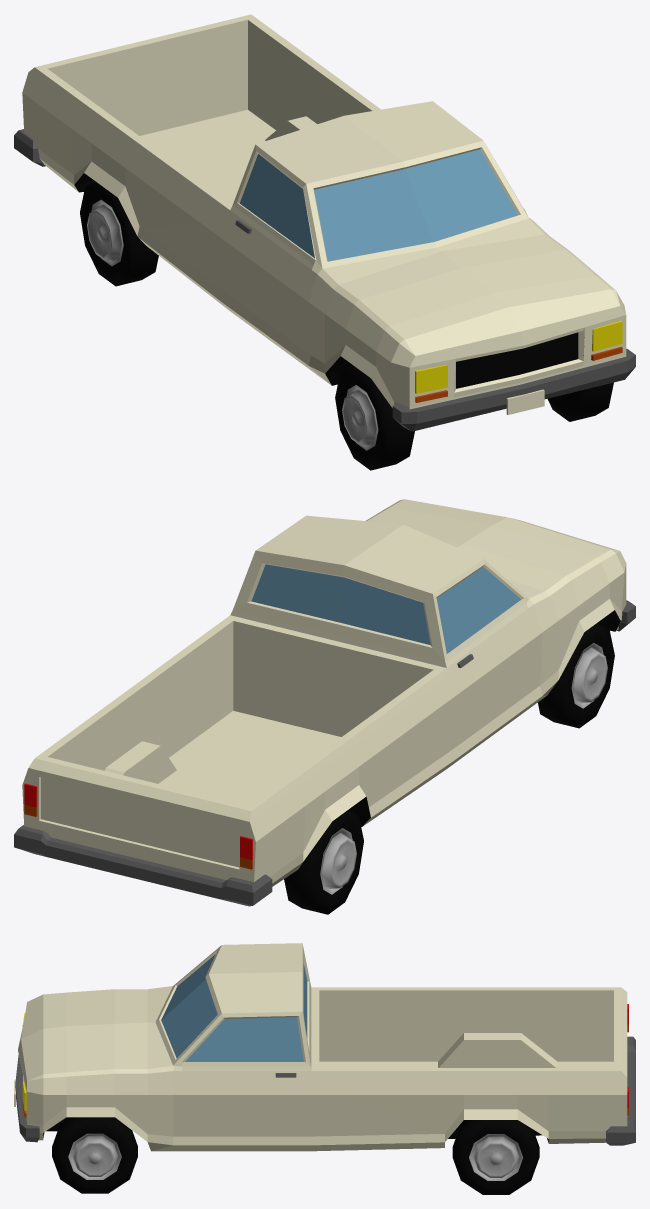
File: pickup.fbx
The picture shows the model from 3 angles, top to bottom: view 1: azimuth 30°, elevation 25°; view 2: azimuth 150°, elevation 25°; view 3: azimuth 270°, elevation 25°; orthographic projection. The views are drawn at different scales.
Parts seen in each view (by area): view 1: Cube, Wheel1rr, Wheel1fr, Wheel1rl; view 2: Cube, Wheel1fr, Wheel1rr; view 3: Cube, Wheel1fl, Wheel1rl.
Part boxes in pixels (x1,y1,x2,y2): Cube: [14, 14, 635, 431]; Wheel1rr: [335, 365, 414, 470]; Wheel1fr: [80, 181, 158, 286]; Wheel1rl: [547, 382, 613, 421]; Cube: [14, 499, 635, 906]; Wheel1fr: [284, 809, 363, 914]; Wheel1rr: [537, 623, 614, 728]; Cube: [14, 943, 635, 1151]; Wheel1fl: [452, 1120, 539, 1194]; Wheel1rl: [52, 1117, 137, 1193].
Bounding box in the file's own units: 151 × 131 × 412.
